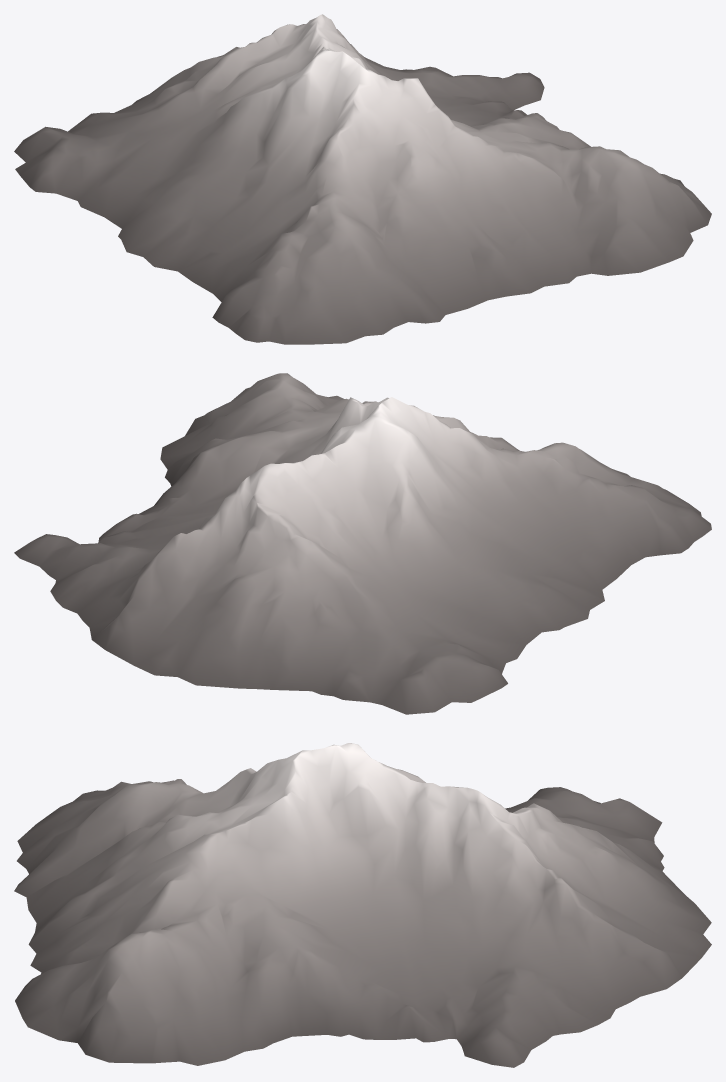
File: Mountain_03.glb
3 renders of one model, top to bottom at view 1: azimuth 30°, elevation 25°; view 2: azimuth 150°, elevation 25°; view 3: azimuth 270°, elevation 25°, orthographic. The views are drawn at different scales.
Parts seen in each view (by area): view 1: Mountain_03; view 2: Mountain_03; view 3: Mountain_03.
Part boxes in pixels (bbox=[...]): Mountain_03: bbox=[14, 14, 711, 344]; Mountain_03: bbox=[14, 373, 711, 714]; Mountain_03: bbox=[14, 743, 711, 1067].
Size of the model in its own units: 35.58 by 10.58 by 38.99.
Materials: 1 (1 with a texture image).
